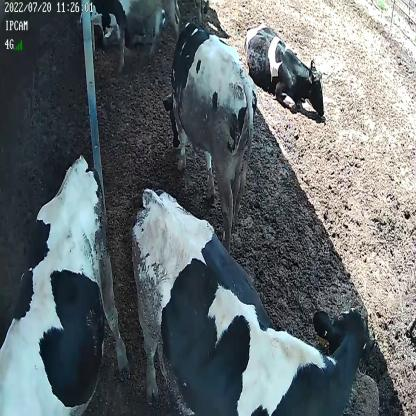cow: (129, 188, 377, 412), (161, 22, 256, 248), (242, 23, 328, 121)
